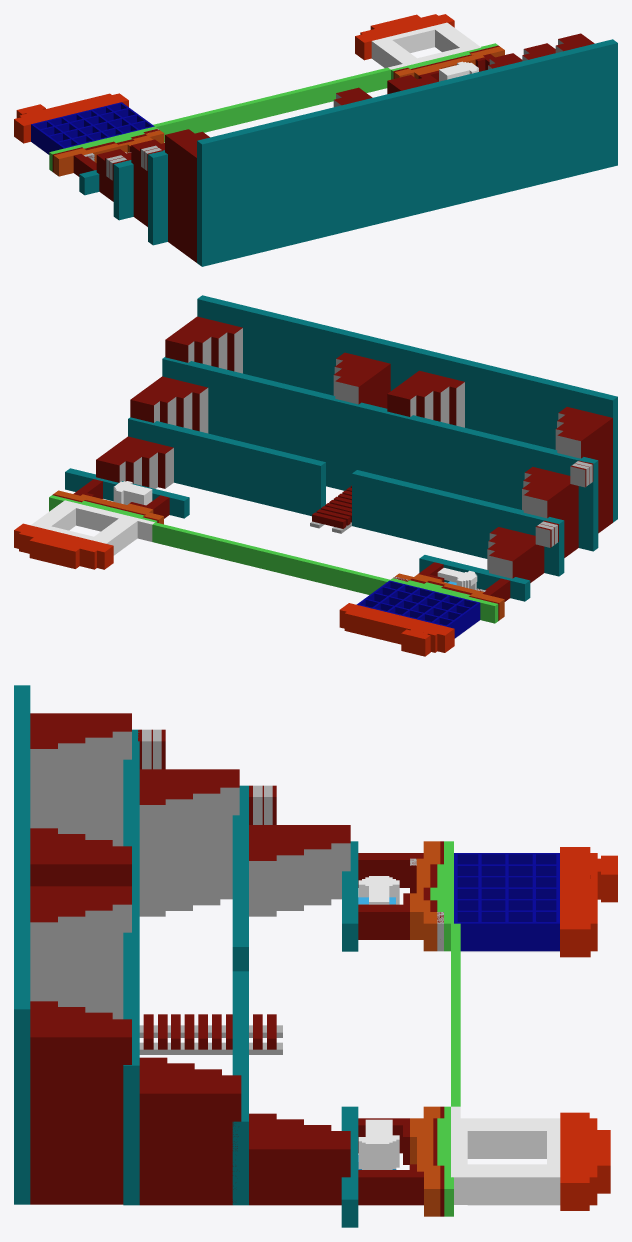
Rendered from level_1.glb.
The picture shows the model from 3 angles, top to bottom: view 1: azimuth 30°, elevation 25°; view 2: azimuth 150°, elevation 25°; view 3: azimuth 270°, elevation 25°; orthographic projection. The views are drawn at different scales.
Parts seen in each view (by area): view 1: Nivel; view 2: Nivel; view 3: Nivel.
Boxes of the visible parts, x1=… form: Nivel: x1=14, y1=14, x2=617, y2=266; Nivel: x1=14, y1=295, x2=617, y2=656; Nivel: x1=14, y1=685, x2=617, y2=1227.
Bounding box in the file's own units: 4.85 × 1.24 × 3.46.
1 material, 1 textured.
